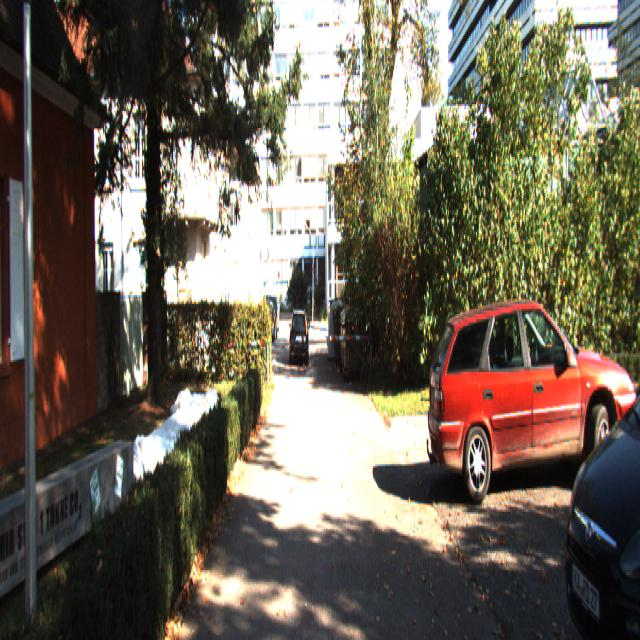Car: (427, 291, 640, 509), (555, 272, 639, 638), (290, 309, 310, 367), (256, 300, 276, 345)
